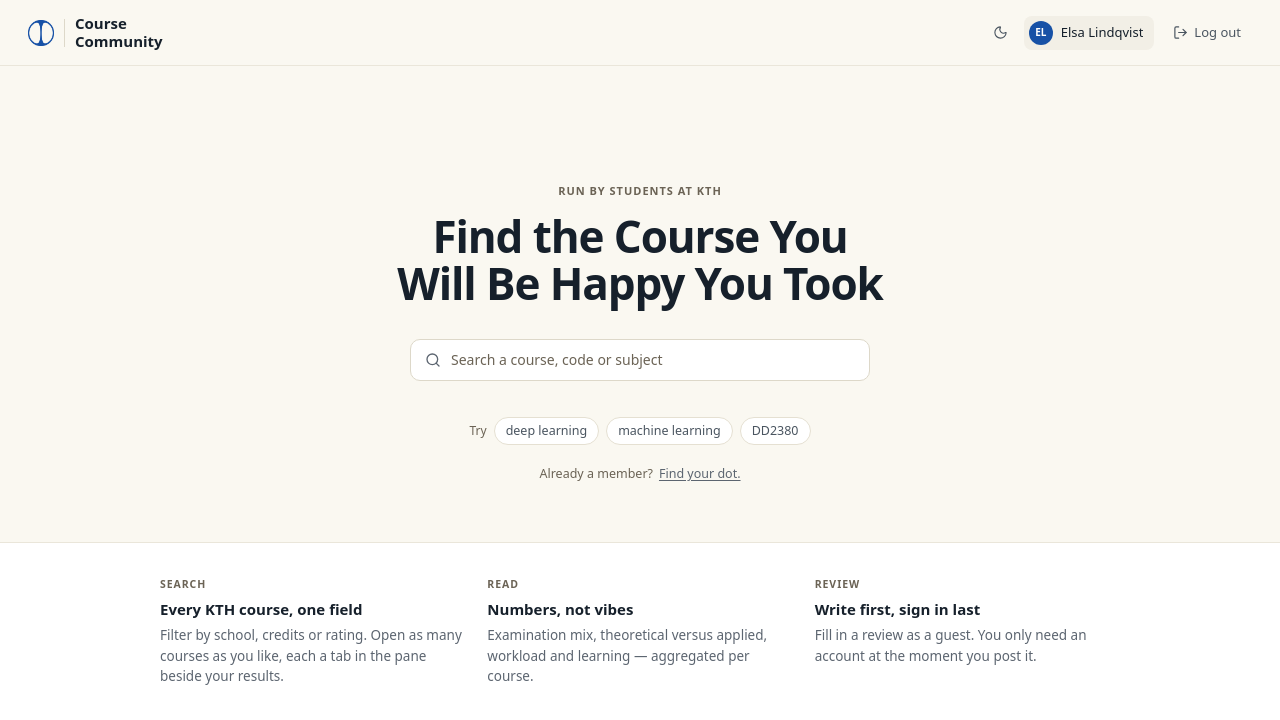
Test: Landing › a member whose node exists › shows them their own dot once they ask
Click the button "Find your dot.": click(700, 474) [659,465,741,483]
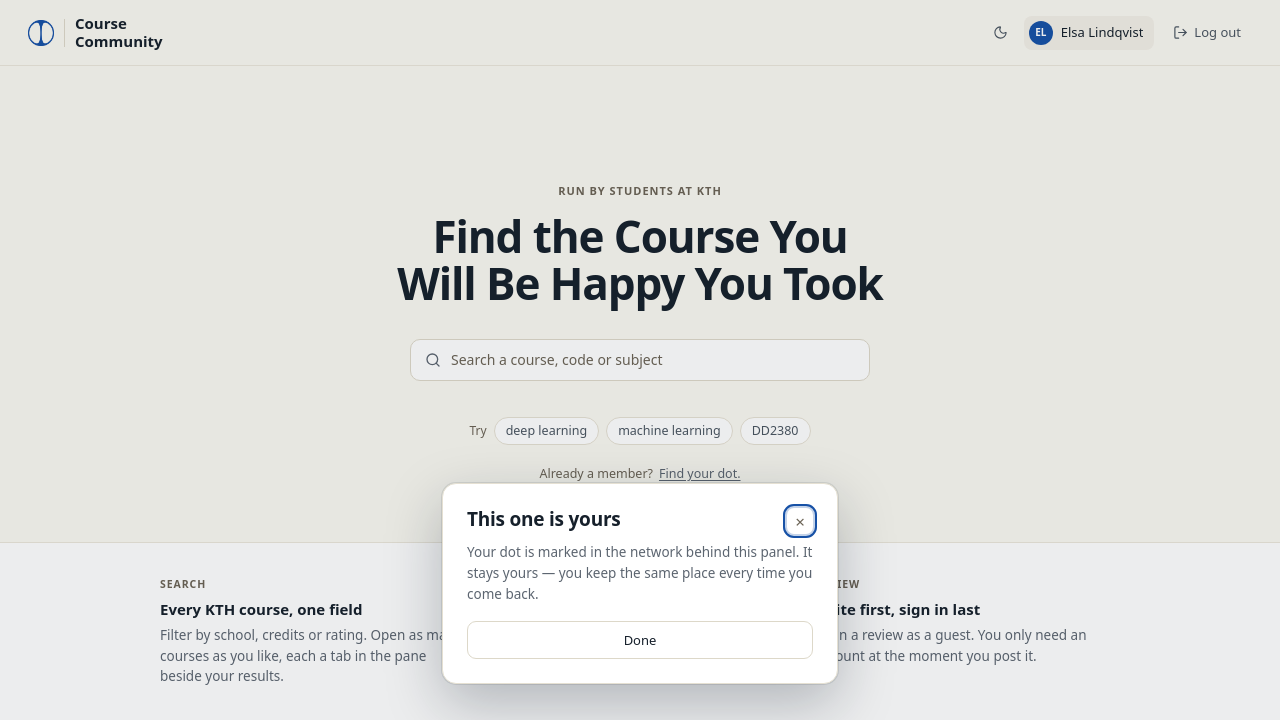
Check: the heading "This one is yours" is shown, box [467,508,620,531]
